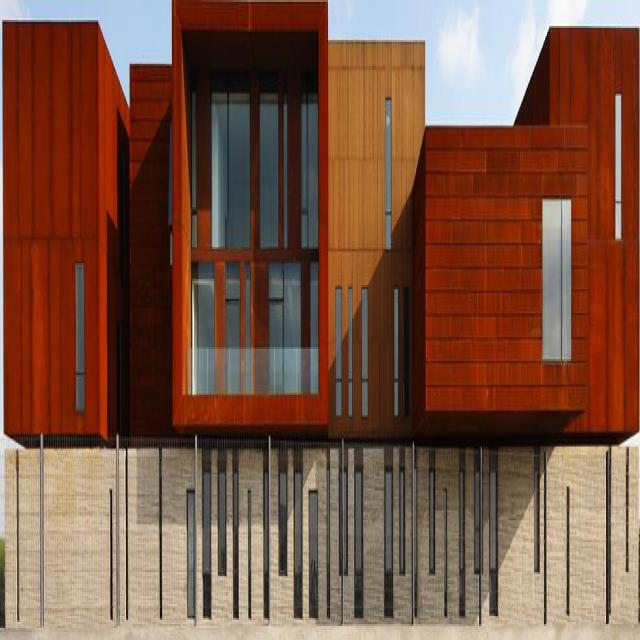railing: (186, 348, 318, 392)
window: (212, 96, 251, 248), (541, 198, 571, 362), (259, 92, 278, 245), (269, 262, 302, 348), (302, 102, 318, 252), (190, 262, 214, 347), (225, 260, 240, 349), (361, 288, 371, 416), (76, 263, 84, 409), (188, 487, 196, 623), (615, 95, 622, 237), (310, 491, 318, 614), (385, 99, 391, 249), (385, 470, 393, 580), (335, 286, 342, 409), (205, 469, 211, 609), (355, 471, 363, 574), (309, 265, 319, 347), (340, 474, 348, 572), (192, 91, 197, 247), (218, 470, 226, 567), (234, 471, 239, 614), (413, 471, 418, 614), (295, 473, 302, 575), (394, 289, 399, 415), (491, 470, 497, 574), (460, 470, 464, 612), (245, 261, 251, 347), (475, 471, 480, 572), (348, 286, 352, 412), (264, 468, 268, 576), (401, 467, 405, 575), (430, 472, 434, 571), (248, 489, 252, 578), (327, 473, 330, 563), (445, 492, 447, 610)
